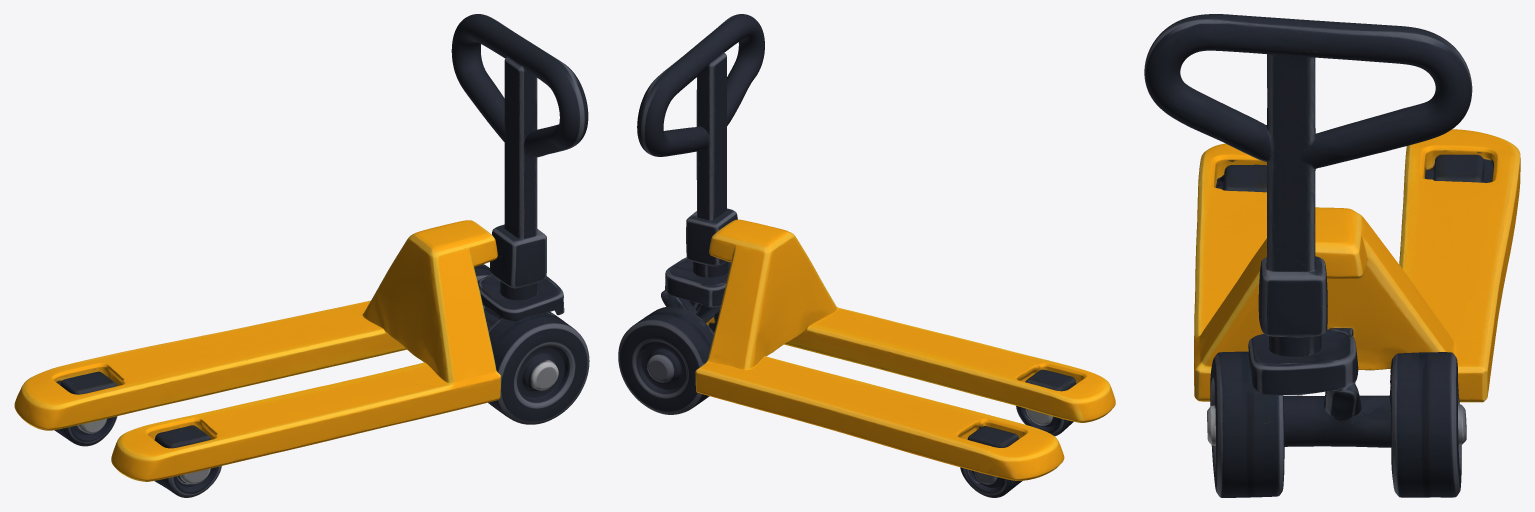
Rendered from pallet-jack.glb.
The picture shows the model from 3 angles, left to right: view 1: azimuth 30°, elevation 25°; view 2: azimuth 150°, elevation 25°; view 3: azimuth 270°, elevation 25°; orthographic projection. The views are drawn at different scales.
Size of the model in its own units: 1.9 by 1.37 by 0.9682.
1 material, 1 textured.
